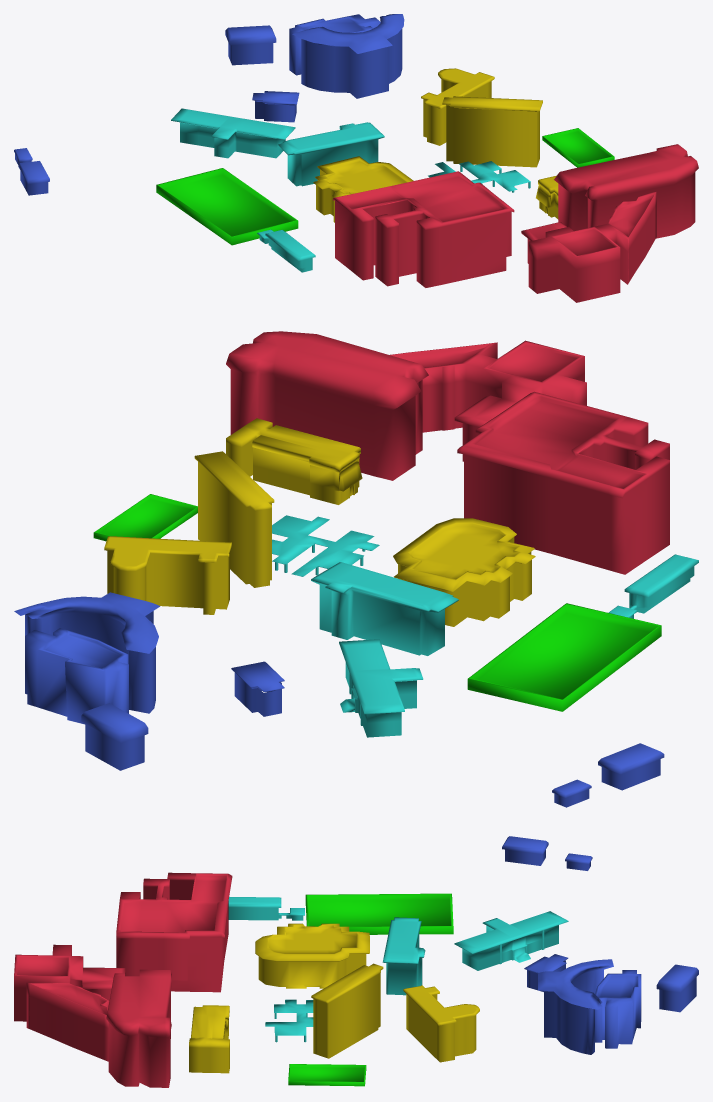
The model's file is UNIVERSIDAD.fbx.
The picture shows the model from 3 angles, top to bottom: view 1: azimuth 30°, elevation 25°; view 2: azimuth 150°, elevation 25°; view 3: azimuth 270°, elevation 25°; orthographic projection. The views are drawn at different scales.
Visible parts, largest first — view 1: Cube.006, Cube.005, Cube.003, Plane, Cube.002, Plane.007, Cube, Cube.008, Cube.007, Cube.001, Plane.003, Plane.010 (+6 smaller); view 2: Cube.006, Cube.003, Plane.007, Cube.005, Cube.007, Cube.008, Cube.001, Plane.001, Cube.004, Cube.002, Plane, Cube (+7 smaller); view 3: Cube.006, Cube.005, Cube.003, Cube.007, Plane.007, Cube.002, Plane, Cube.001, Cube, Plane.001, Cube.004, Cube.008 (+6 smaller).
Boxes of the visible parts, x1,y1,x2,y2 form: Cube.006: (333, 171, 514, 287); Cube.005: (521, 192, 656, 302); Cube.003: (554, 144, 698, 238); Plane: (292, 14, 404, 98); Cube.002: (442, 96, 542, 167); Plane.007: (156, 168, 298, 245); Cube: (171, 108, 295, 158); Cube.008: (278, 122, 384, 186); Cube.007: (313, 156, 413, 222); Cube.001: (421, 68, 494, 145); Plane.003: (225, 25, 276, 65); Plane.010: (542, 128, 614, 167); Cube.006: (457, 391, 669, 574); Cube.003: (226, 331, 428, 480); Plane.007: (467, 603, 661, 711); Cube.005: (390, 340, 586, 461); Cube.007: (393, 518, 535, 626); Cube.008: (311, 562, 458, 655); Cube.001: (104, 536, 231, 614); Plane.001: (25, 628, 128, 724); Cube.004: (226, 418, 362, 504); Cube.002: (194, 451, 274, 587); Plane: (14, 592, 160, 713); Cube: (339, 639, 423, 737); Cube.006: (116, 872, 232, 992); Cube.005: (14, 944, 125, 1061); Cube.003: (106, 969, 171, 1087); Cube.007: (255, 923, 369, 988); Plane.007: (305, 893, 453, 934); Cube.002: (311, 963, 383, 1058); Plane: (538, 959, 613, 1054); Cube.001: (403, 985, 479, 1062); Cube: (454, 911, 568, 970); Plane.001: (595, 970, 641, 1048); Cube.004: (189, 1005, 229, 1073); Cube.008: (382, 917, 425, 995).
Size of what is drawn, in the model's own units: 1326 by 162 by 1629.
